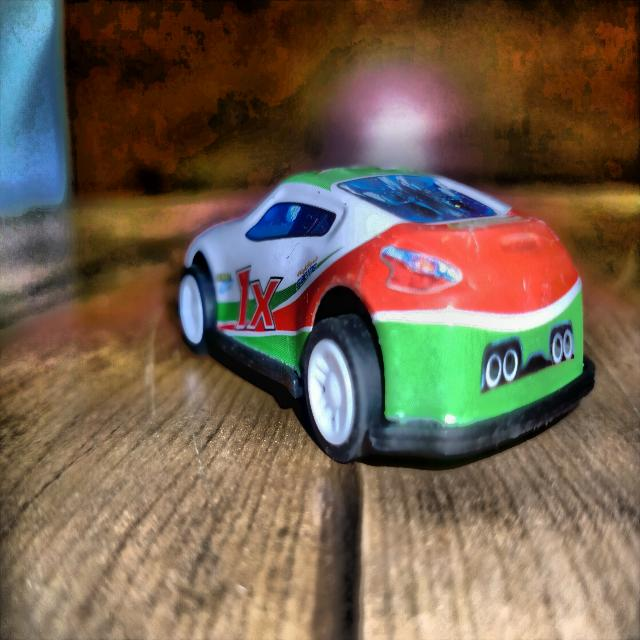Car: (178, 168, 594, 462)
